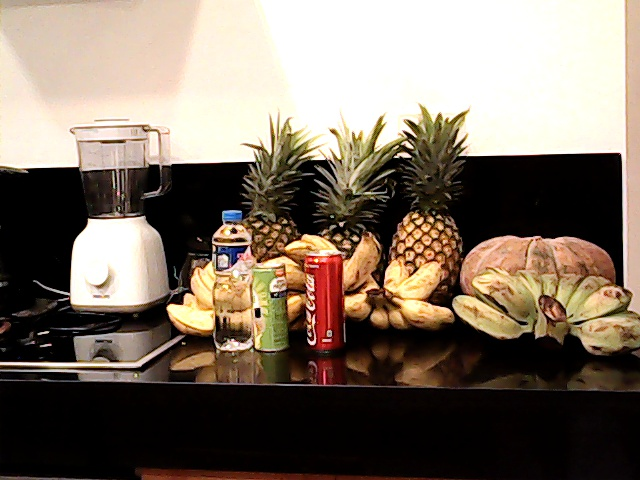Cola: (298, 243, 352, 359)
Pine Juice: (247, 258, 291, 359)
Summit Water: (205, 200, 256, 359)
